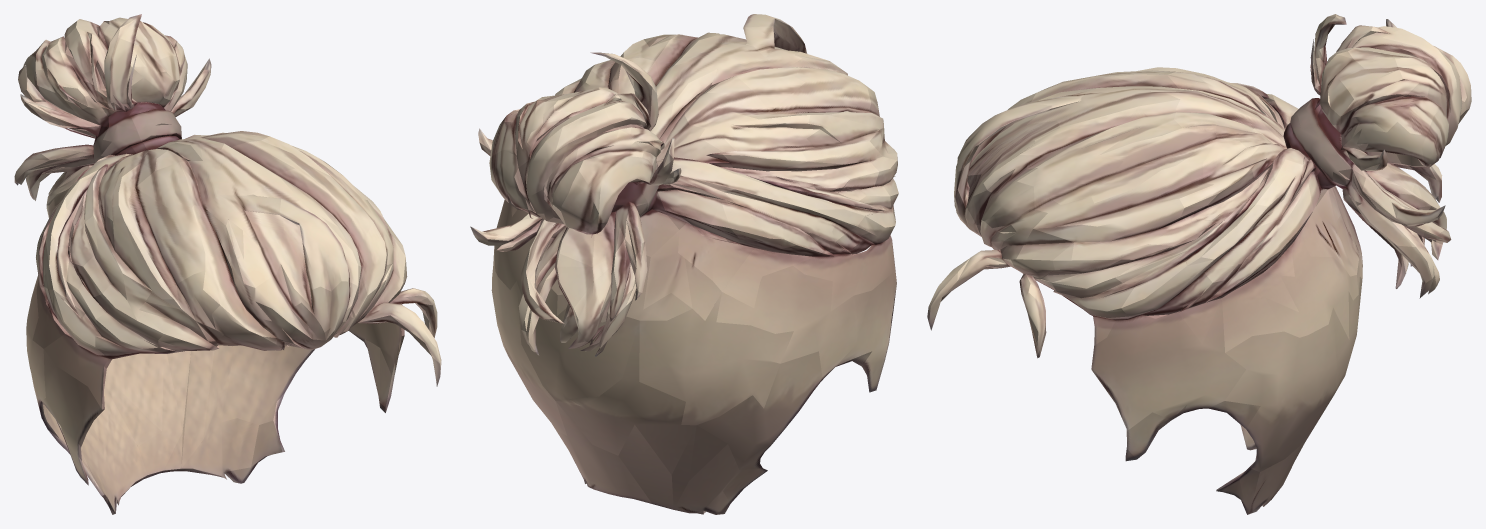
The model's file is fennal_m-chignon-haut.glb.
The picture shows the model from 3 angles, left to right: view 1: azimuth 30°, elevation 25°; view 2: azimuth 150°, elevation 25°; view 3: azimuth 270°, elevation 25°; orthographic projection. The views are drawn at different scales.
Visible parts, largest first — view 1: geometry_0; view 2: geometry_0; view 3: geometry_0.
Part boxes in pixels (bbox=[...]): geometry_0: bbox=[14, 14, 441, 514]; geometry_0: bbox=[470, 14, 898, 514]; geometry_0: bbox=[927, 14, 1471, 514].
Bounding box in the file's own units: 1.38 × 1.78 × 1.9.
1 material, 1 textured.
